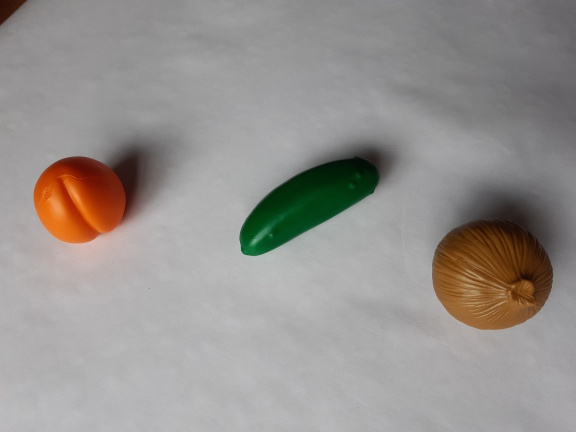apricot: (25, 150, 140, 250)
cucumber: (235, 149, 388, 261)
onion: (413, 213, 567, 336)
